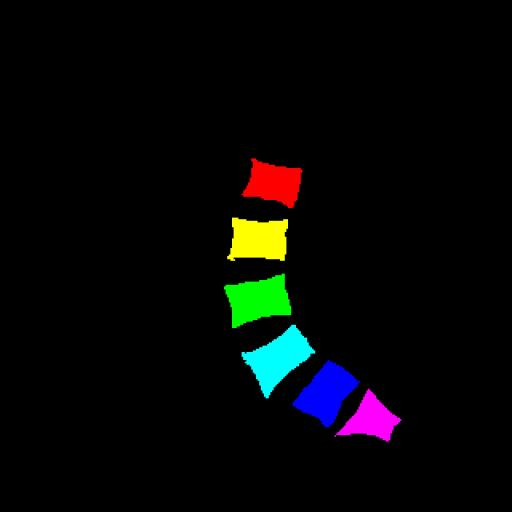L1: (242, 158, 302, 208)
L2: (228, 218, 288, 260)
L3: (224, 274, 291, 328)
L4: (242, 325, 315, 398)
L5: (293, 361, 359, 426)
S1: (335, 389, 401, 442)
